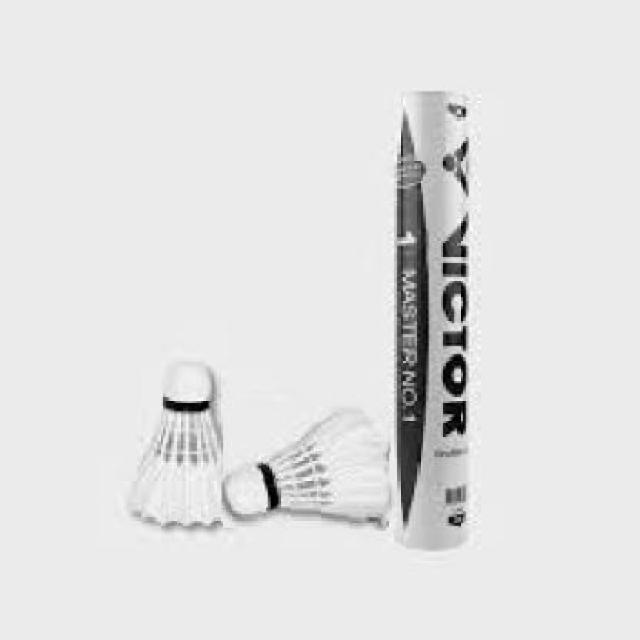Shuttlecock: (222, 402, 390, 529)
